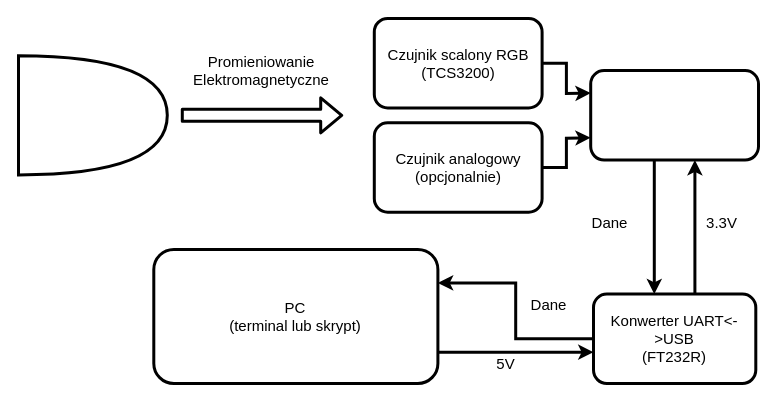
Some shapes in this 777 by 402 pixel diagram are drawn without their labels. The box of each missing label's shape, as (x1, y1, x2, y2) in pixels:
Mikrokontroler: (589, 69, 760, 161)
Źródło światła: (16, 54, 168, 176)
